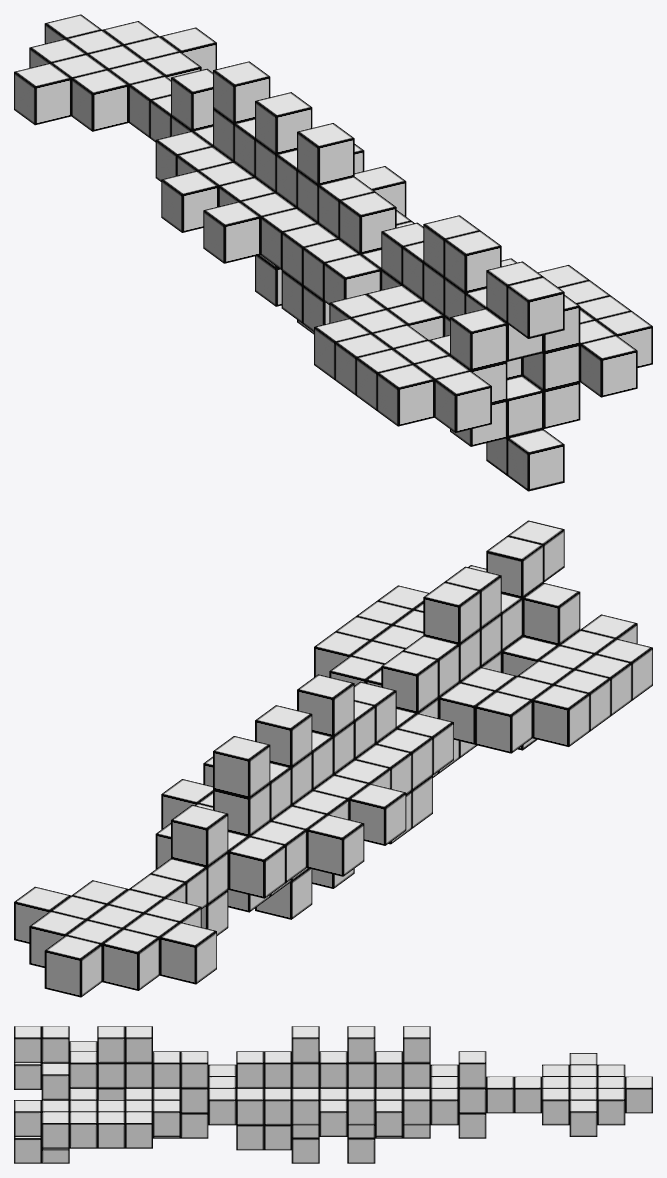
Rendered from Mother_Ship.FBX.
3 views of the same model, one above another, from view 1: azimuth 30°, elevation 25°; view 2: azimuth 150°, elevation 25°; view 3: azimuth 270°, elevation 25° (orthographic). The views are drawn at different scales.
Parts seen in each view (by area): view 1: Mother_Ship; view 2: Mother_Ship; view 3: Mother_Ship.
Part boxes in pixels (x1,y1,x2,y2): Mother_Ship: (14, 14, 652, 491); Mother_Ship: (14, 520, 652, 997); Mother_Ship: (14, 1026, 652, 1163).
Size of the model in its own units: 700 by 500 by 2300.
1 material, 1 textured.
